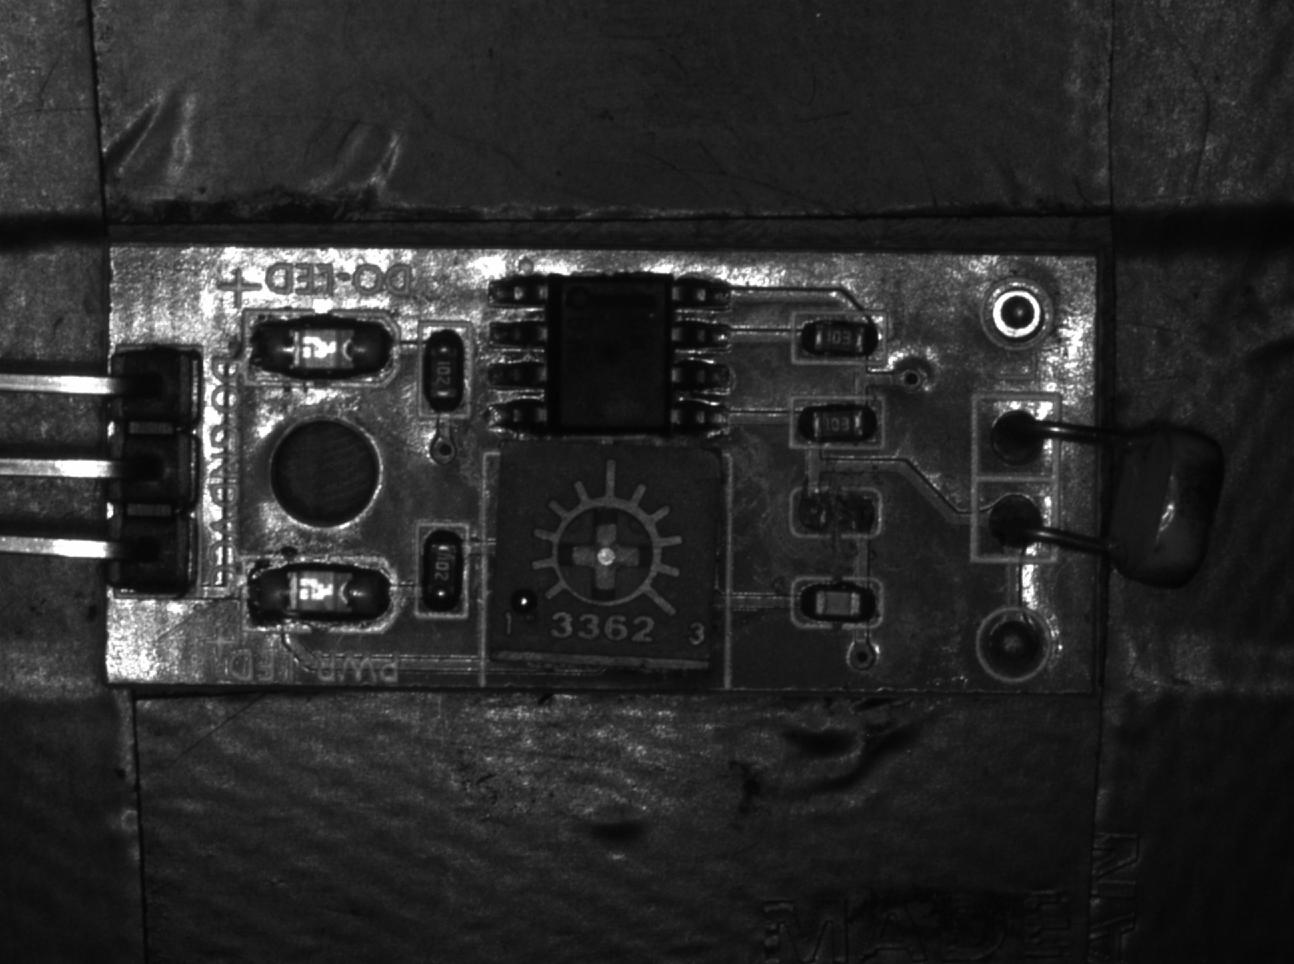miss: (785, 485, 879, 538)
ok: (414, 520, 473, 621), (788, 313, 890, 369), (420, 319, 473, 421), (786, 578, 888, 631), (788, 398, 886, 451)
